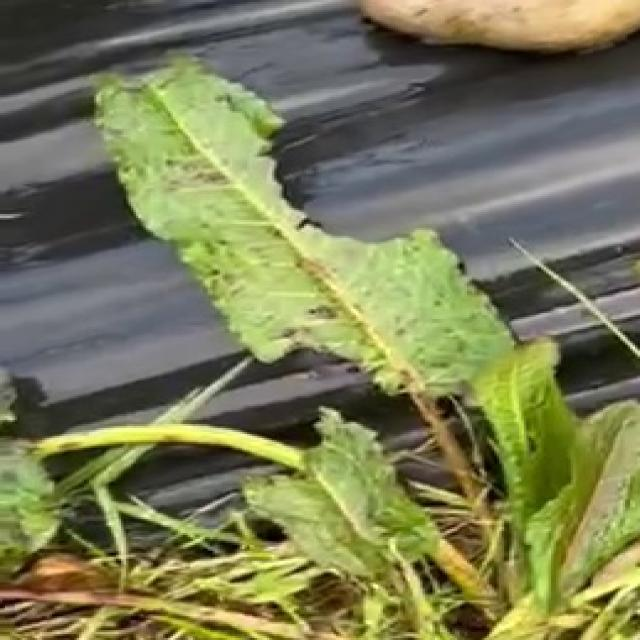organic waste: (67, 64, 640, 640)
